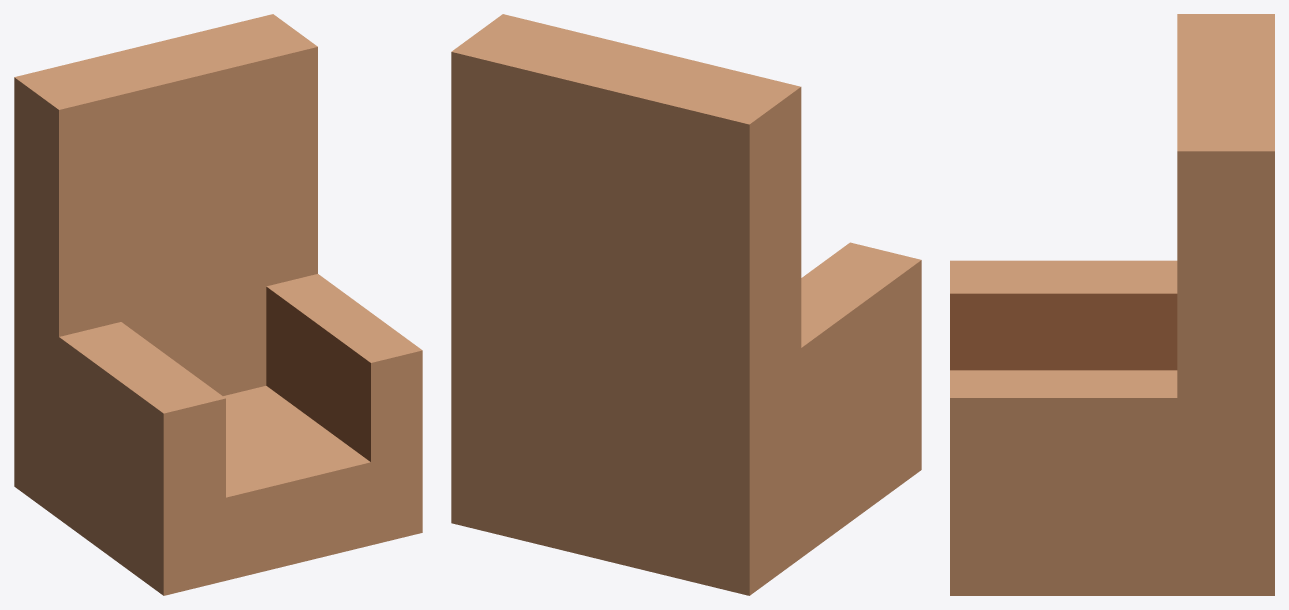
File: ghe.fbx
The picture shows the model from 3 angles, left to right: view 1: azimuth 30°, elevation 25°; view 2: azimuth 150°, elevation 25°; view 3: azimuth 270°, elevation 25°; orthographic projection. The views are drawn at different scales.
Visible parts, largest first — view 1: ghe; view 2: ghe; view 3: ghe.
Part boxes in pixels (x1,y1,x2,y2): ghe: (14,14,422,595); ghe: (451,14,921,595); ghe: (950,14,1274,595).
Size of the model in its own units: 331 by 501 by 331.
